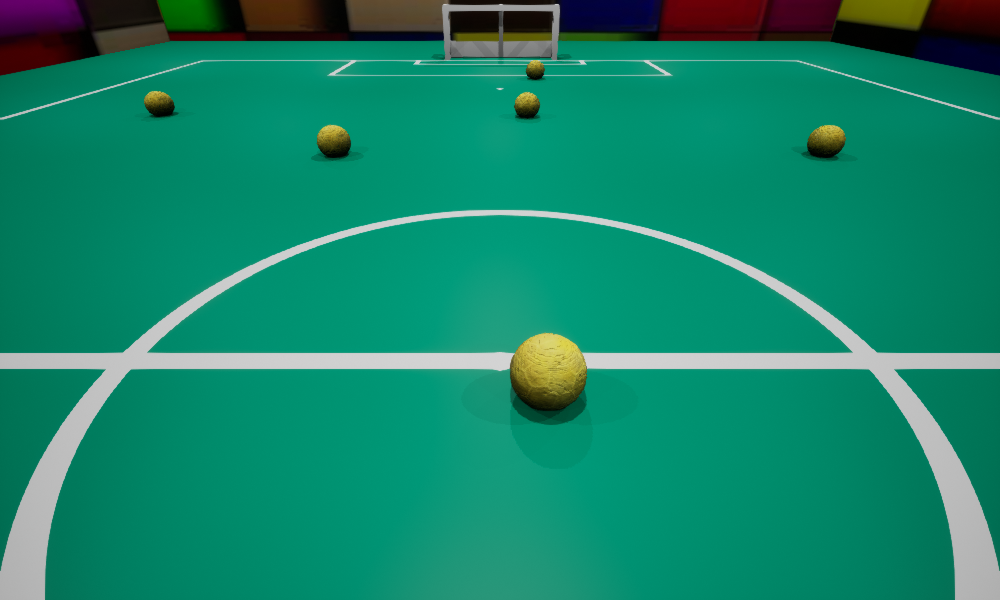b: (510, 333, 586, 410), (807, 125, 845, 156), (317, 125, 350, 156), (144, 91, 174, 115), (514, 92, 539, 117), (526, 60, 544, 78)
g: (442, 4, 559, 59)
